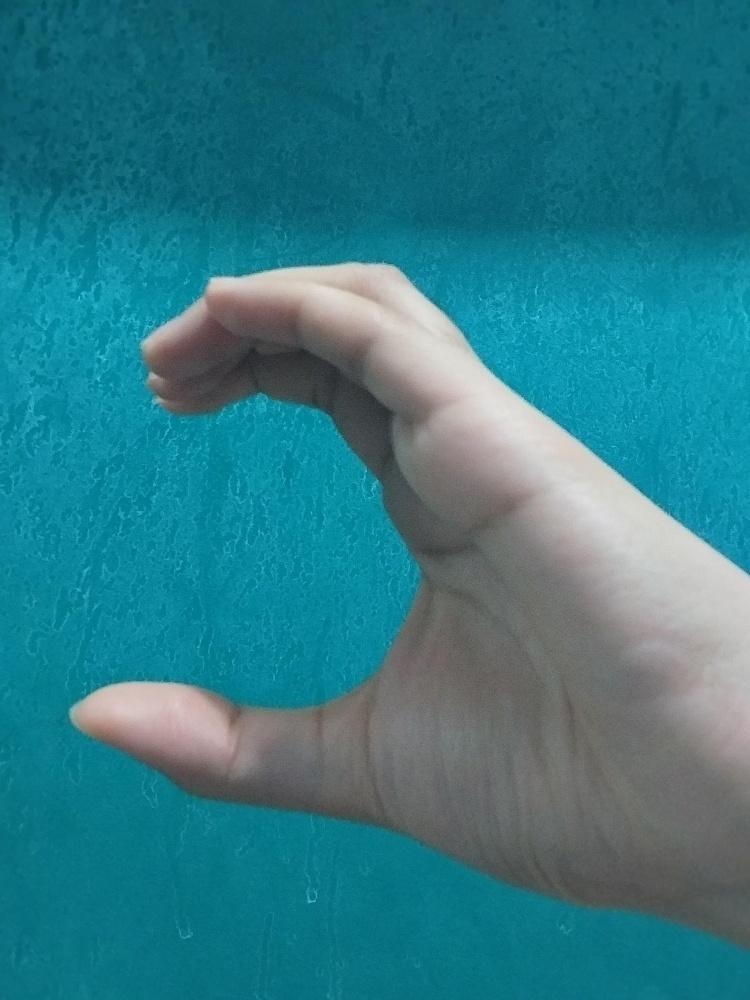c: (60, 253, 708, 913)
